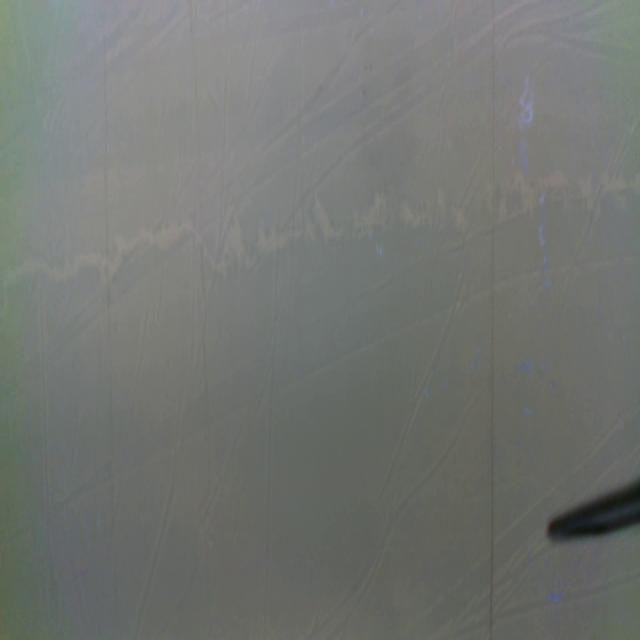color bleeding: (5, 161, 640, 295)
crease: (102, 15, 116, 533), (488, 0, 498, 636)
